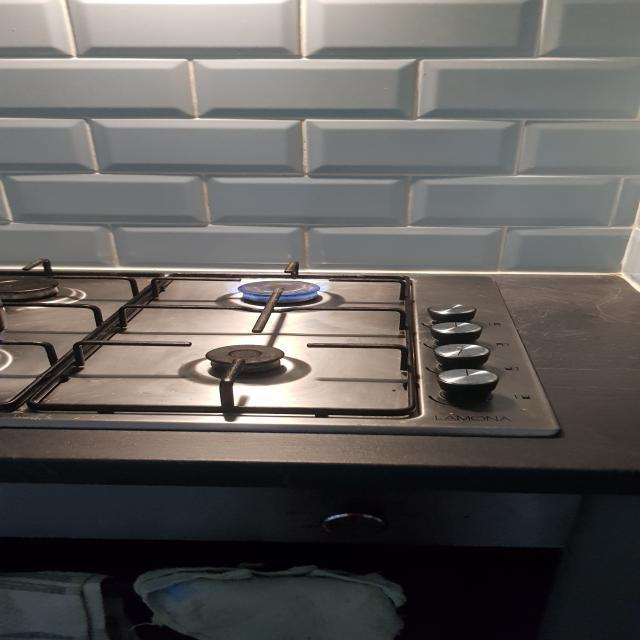Flame: (232, 273, 335, 313)
